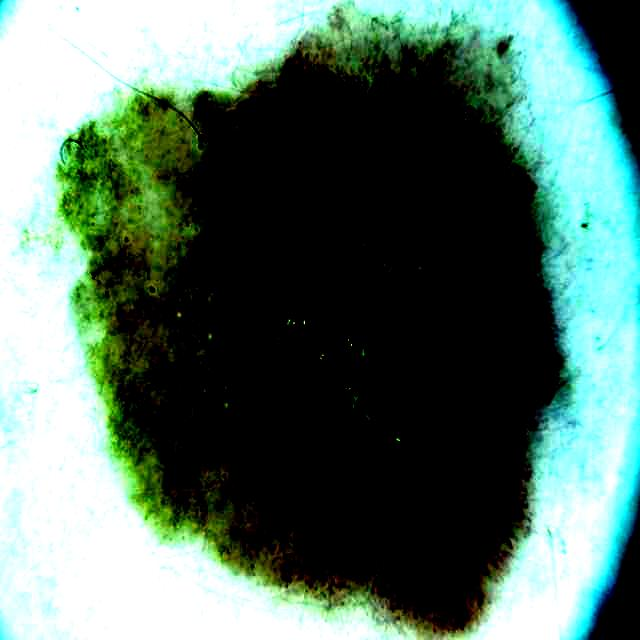BKL: (62, 9, 557, 630)
